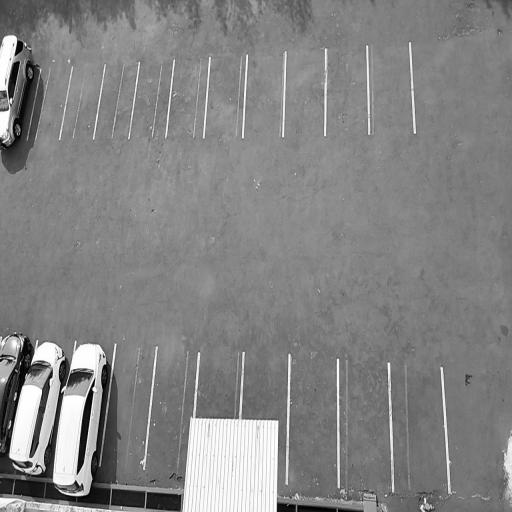Car: (47, 327, 116, 501), (4, 326, 73, 482), (0, 29, 42, 161), (0, 324, 38, 465)
Space Available: (388, 362, 450, 493), (99, 340, 157, 468), (286, 351, 339, 488), (338, 360, 392, 490), (144, 345, 195, 467), (367, 42, 416, 131), (326, 45, 369, 133), (128, 58, 174, 138), (243, 53, 286, 138), (165, 55, 210, 136), (93, 61, 139, 139), (283, 50, 325, 135), (241, 348, 289, 422), (194, 347, 244, 418), (205, 55, 246, 138), (28, 66, 73, 139), (62, 64, 104, 140)
